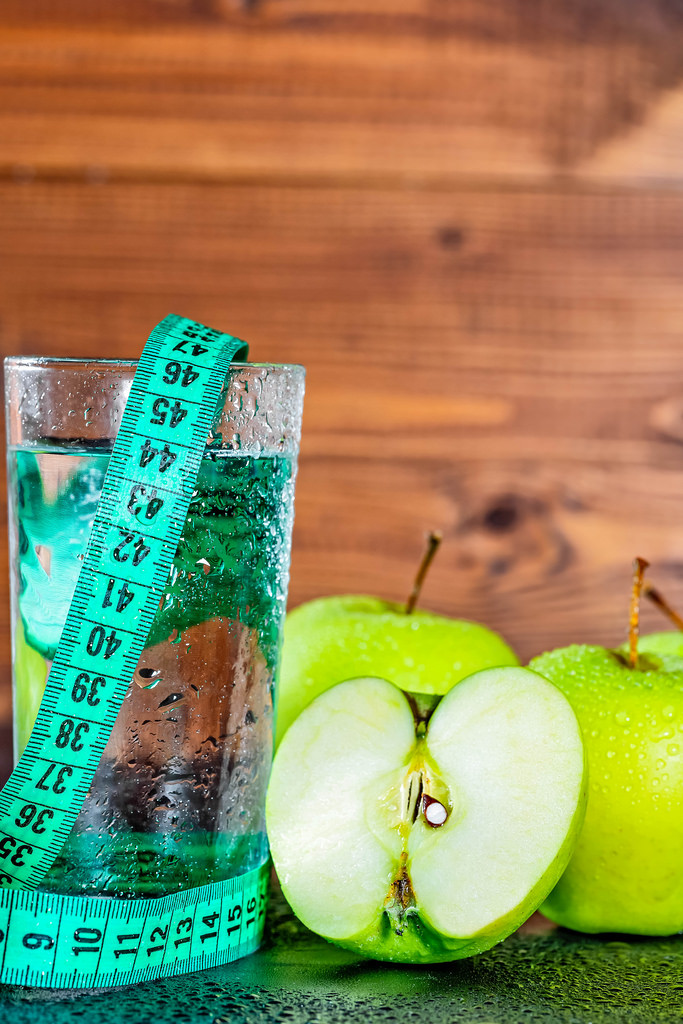glass of water: (7, 345, 277, 963)
